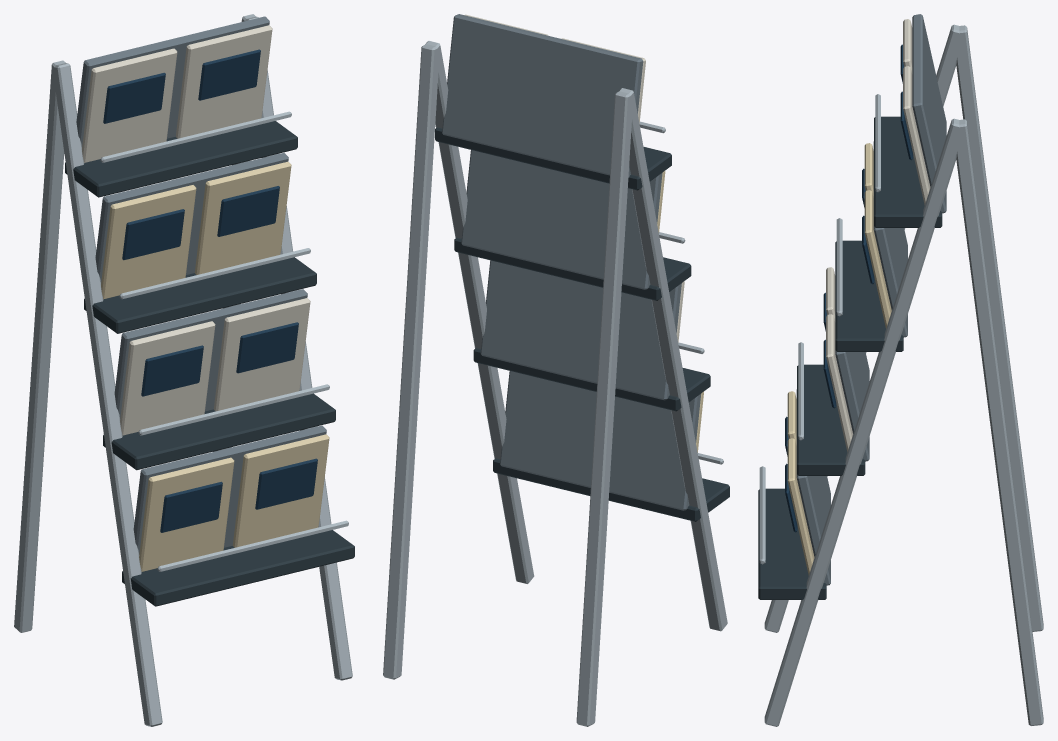
Rendered from b10_sidewalk_magazine_ladder.glb.
The picture shows the model from 3 angles, left to right: view 1: azimuth 30°, elevation 25°; view 2: azimuth 150°, elevation 25°; view 3: azimuth 270°, elevation 25°; orthographic projection.
Visible parts, largest first — view 1: b10_sidewalk_magazine_ladder; view 2: b10_sidewalk_magazine_ladder; view 3: b10_sidewalk_magazine_ladder.
Boxes of the visible parts, x1=… form: b10_sidewalk_magazine_ladder: x1=14, y1=14, x2=354, y2=726; b10_sidewalk_magazine_ladder: x1=383, y1=14, x2=729, y2=726; b10_sidewalk_magazine_ladder: x1=758, y1=14, x2=1043, y2=726.
Size of the model in its own units: 0.555 by 1.6 by 0.6669.
